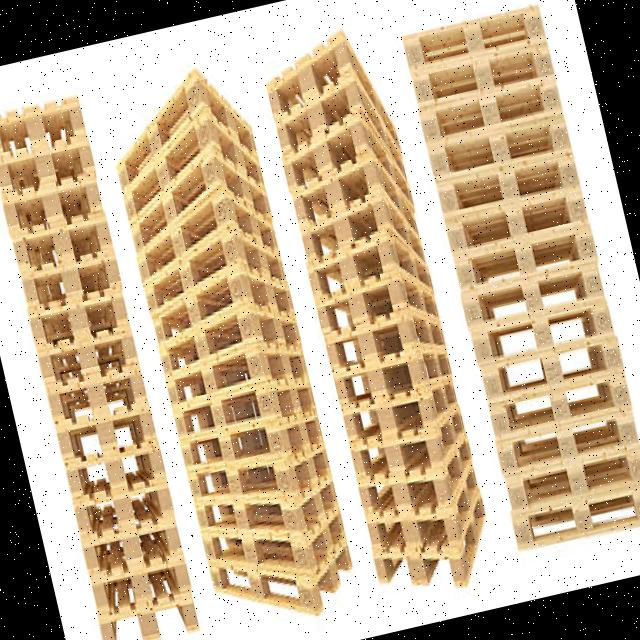Wooden-Pallets: (106, 67, 260, 211), (257, 28, 404, 154), (200, 525, 360, 629), (371, 491, 494, 592), (419, 66, 569, 146), (408, 30, 560, 107), (451, 223, 605, 296), (444, 180, 598, 253), (478, 331, 628, 405), (401, 0, 551, 73), (427, 110, 578, 180), (494, 405, 640, 477), (502, 444, 640, 515), (7, 204, 117, 279), (46, 359, 152, 433), (27, 287, 136, 356), (60, 439, 169, 503), (0, 180, 106, 239), (0, 144, 102, 205), (0, 90, 90, 159), (90, 586, 204, 640), (82, 521, 189, 578)
